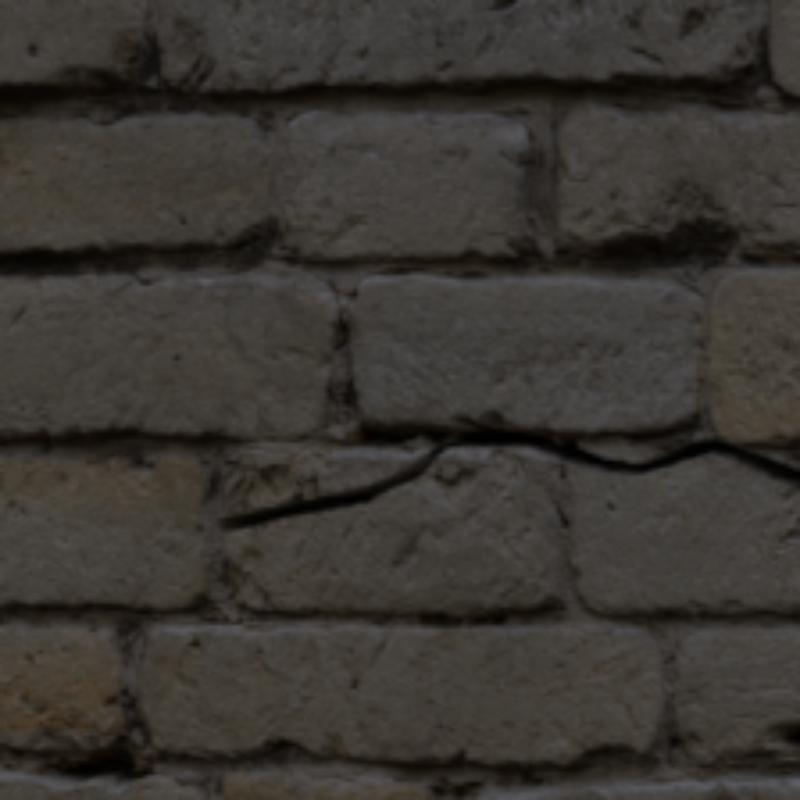crack: (218, 425, 796, 525)
